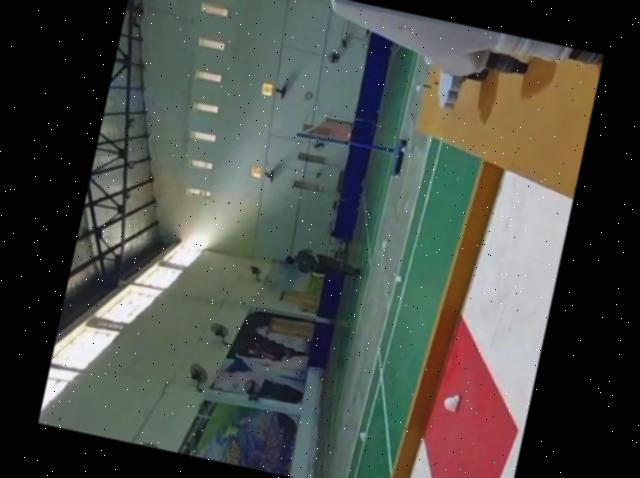Fist: (416, 30, 531, 95)
Hand: (423, 53, 489, 116)
Sph: (317, 0, 603, 97)
